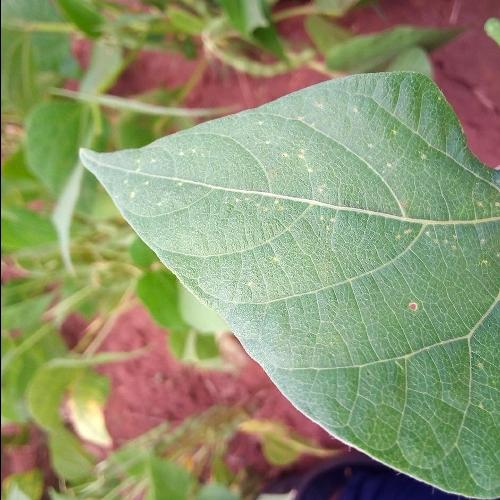embun tepung: (194, 126, 440, 278)
